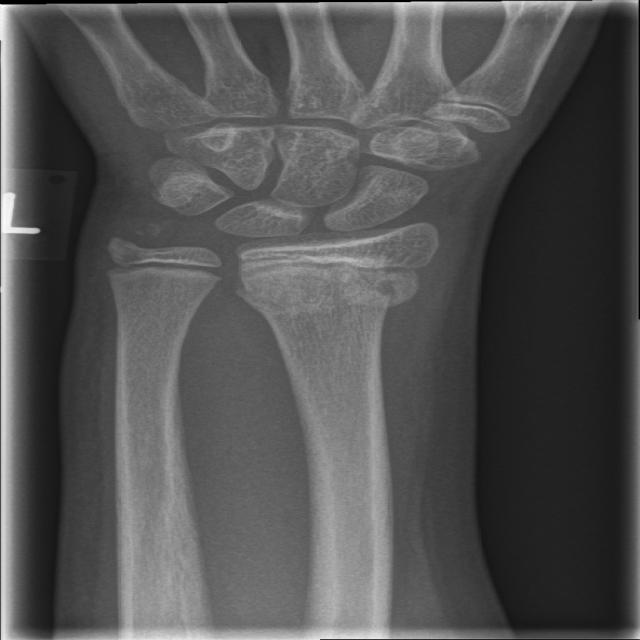radius fracture: (250, 260, 446, 402)
